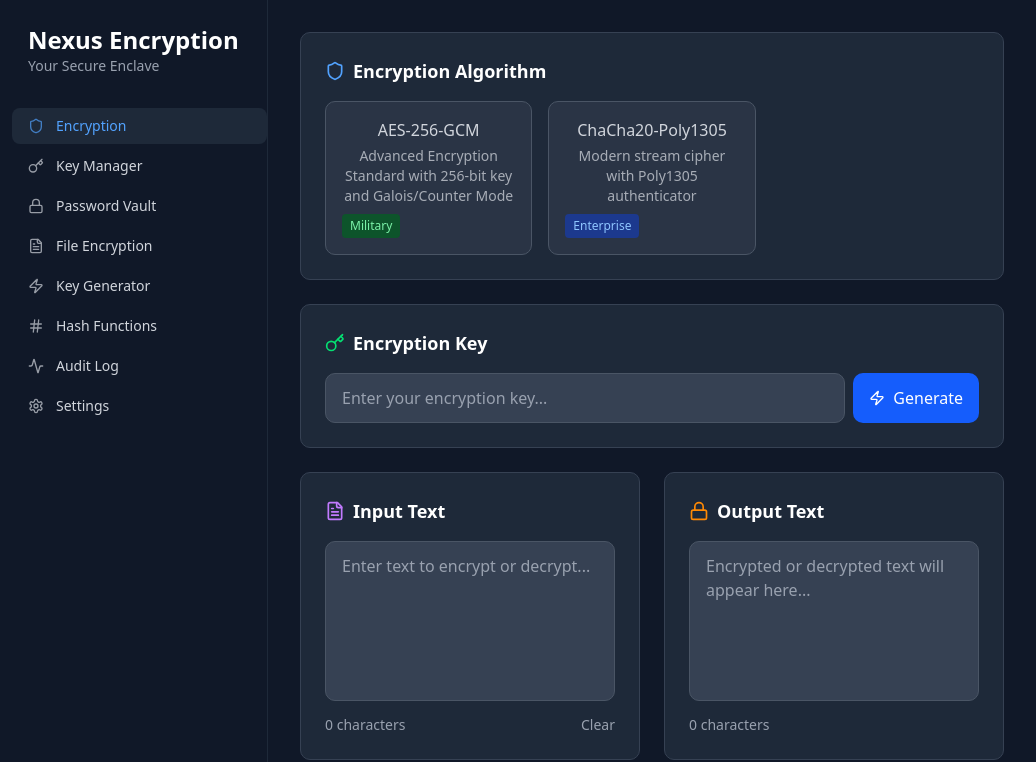
Test: NexusCipher Component › Settings › should update settings
The image size is (1036, 762).
Switch to settings tab
Step 1. Click the button "Settings" → x=140, y=406, box [12,388,267,424]
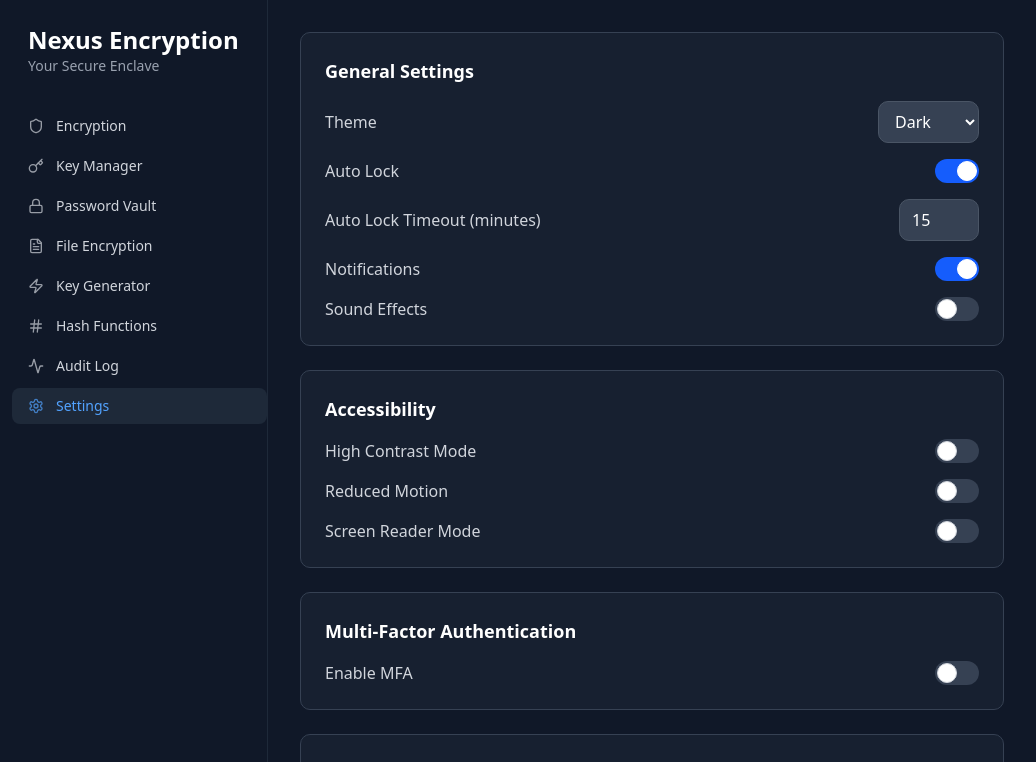
Expected: the heading "General Settings" is shown, [325,59,474,83]
